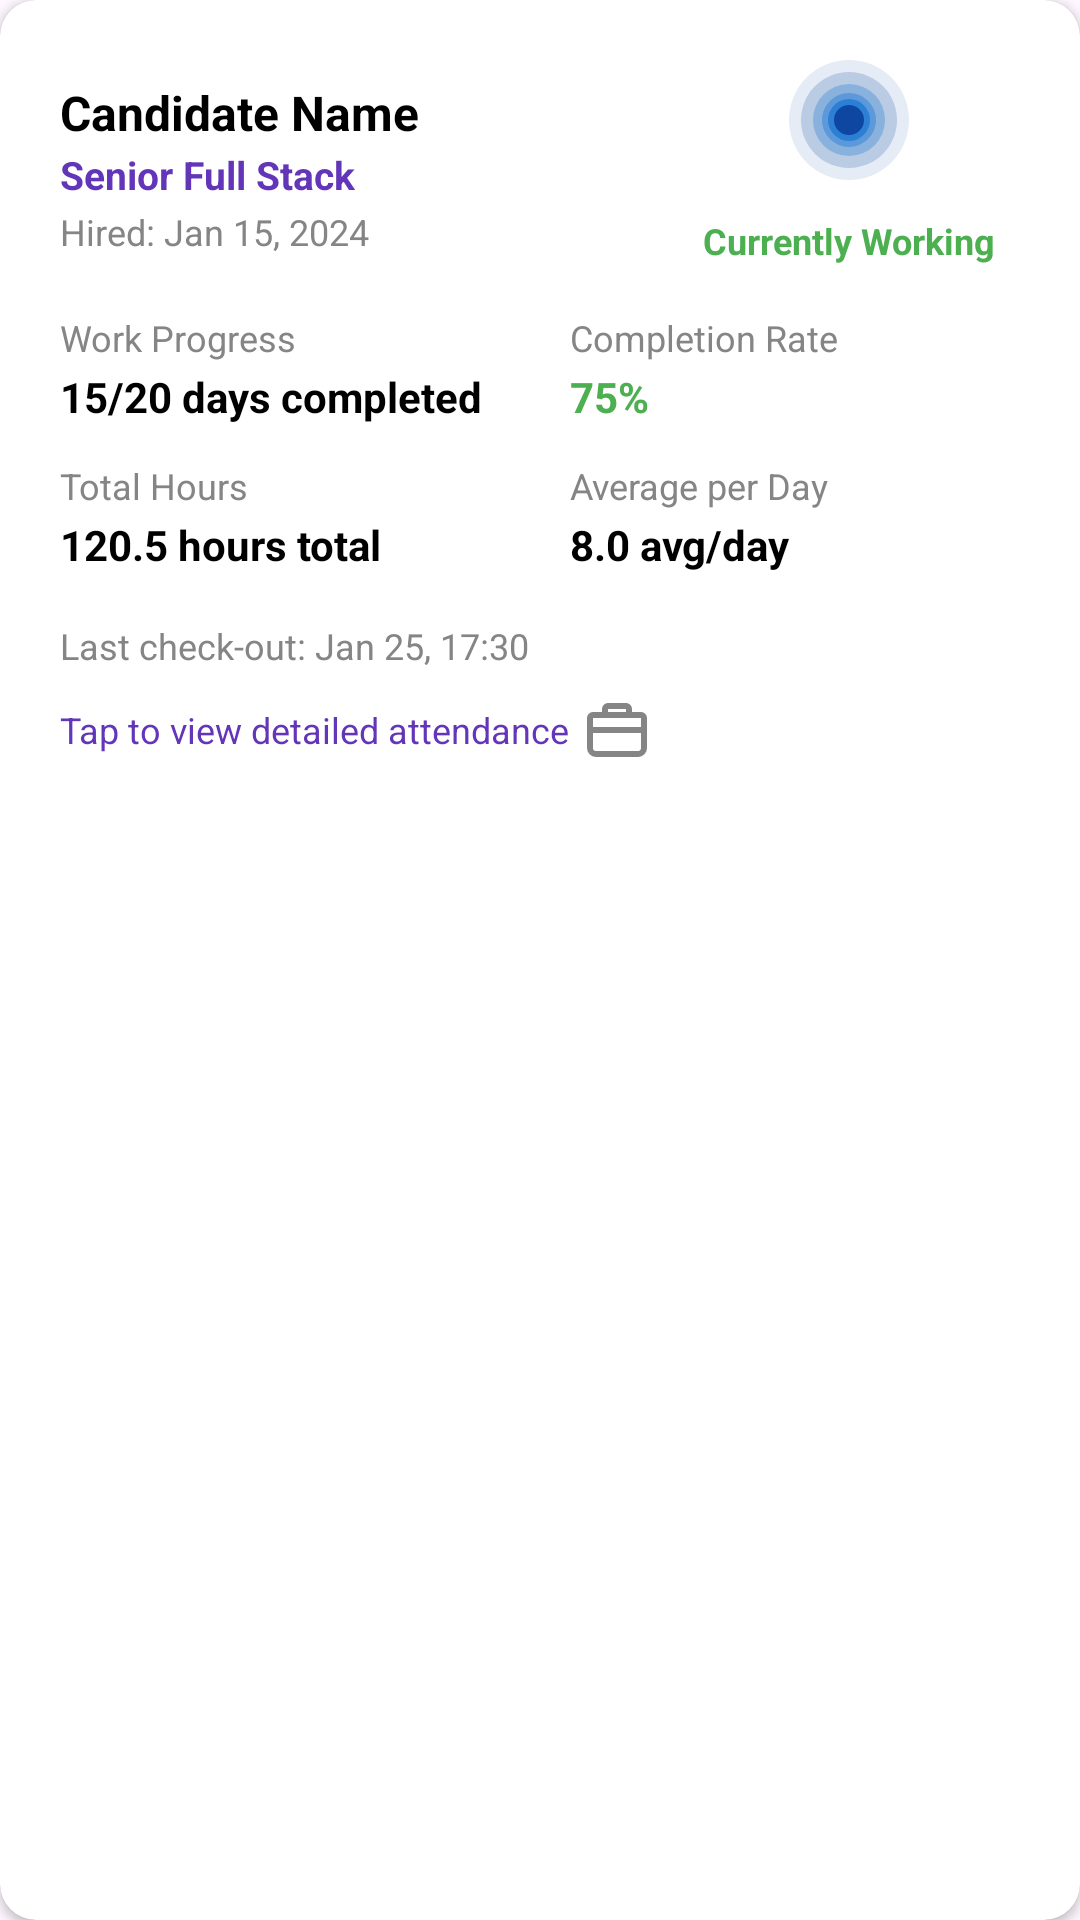

Named icons in this screenshot (1080 x 1920) and their centers, (x=x, y=y):
animated pulse: (x=849, y=120)
